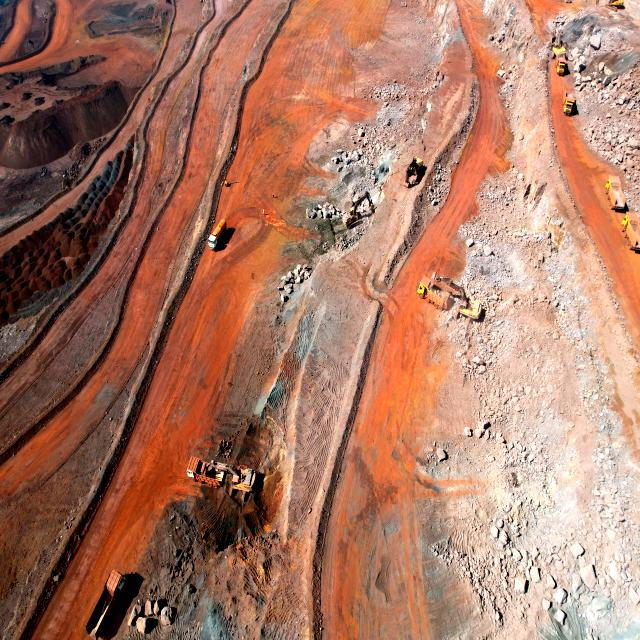Dumper truck: (87, 570, 127, 639), (416, 272, 449, 311), (186, 456, 224, 484), (622, 214, 640, 248), (606, 176, 623, 209), (562, 94, 576, 115), (556, 60, 568, 75)
Excavator: (208, 460, 258, 500), (344, 190, 374, 230), (429, 272, 478, 288), (404, 156, 424, 188), (455, 298, 482, 321), (550, 21, 568, 55), (455, 285, 474, 312), (594, 0, 628, 11)
